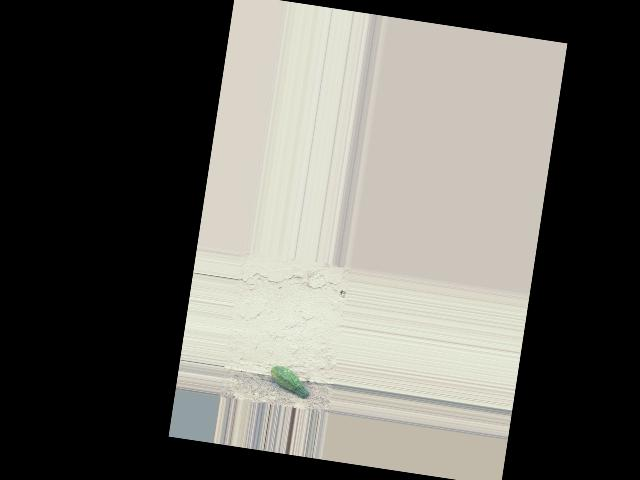cucumber: (267, 364, 311, 398)
